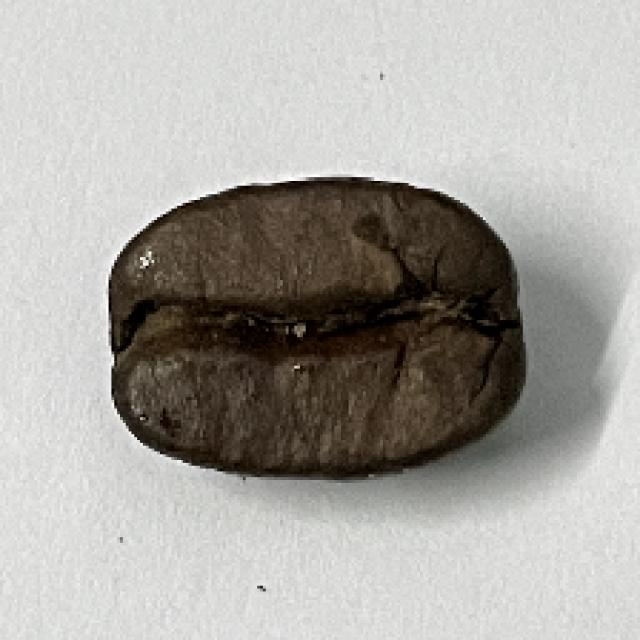bean: (101, 177, 528, 478)
